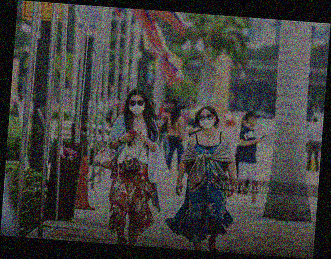with_mask: (128, 99, 145, 116), (198, 113, 215, 129)
without_mask: (248, 116, 258, 127)
